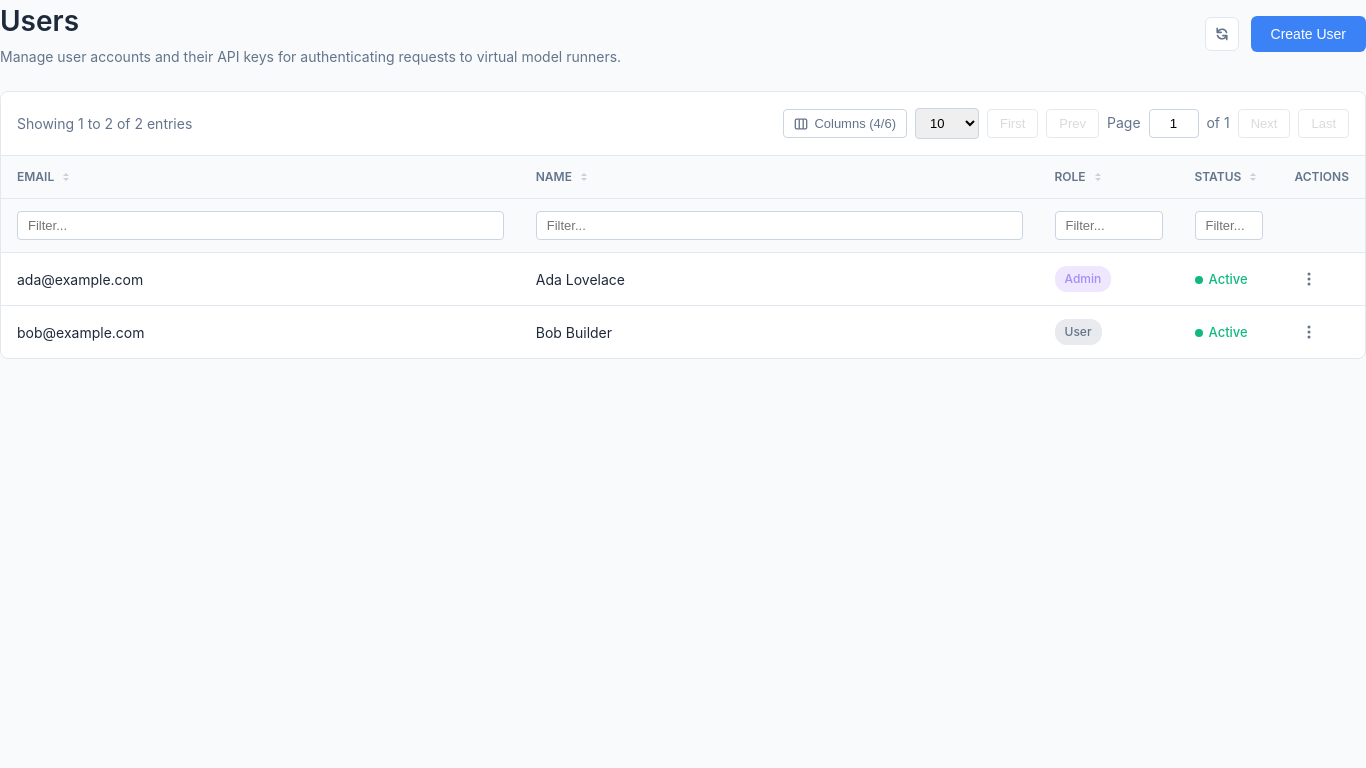
Scenario: Users view › creates a user with the entered values
This screenshot has width=1366, height=768.
Expected: the text "ada@example.com" is shown, [1,252,520,306]
Click the button "Create User" at (1308, 34), box [1250,16,1365,52]
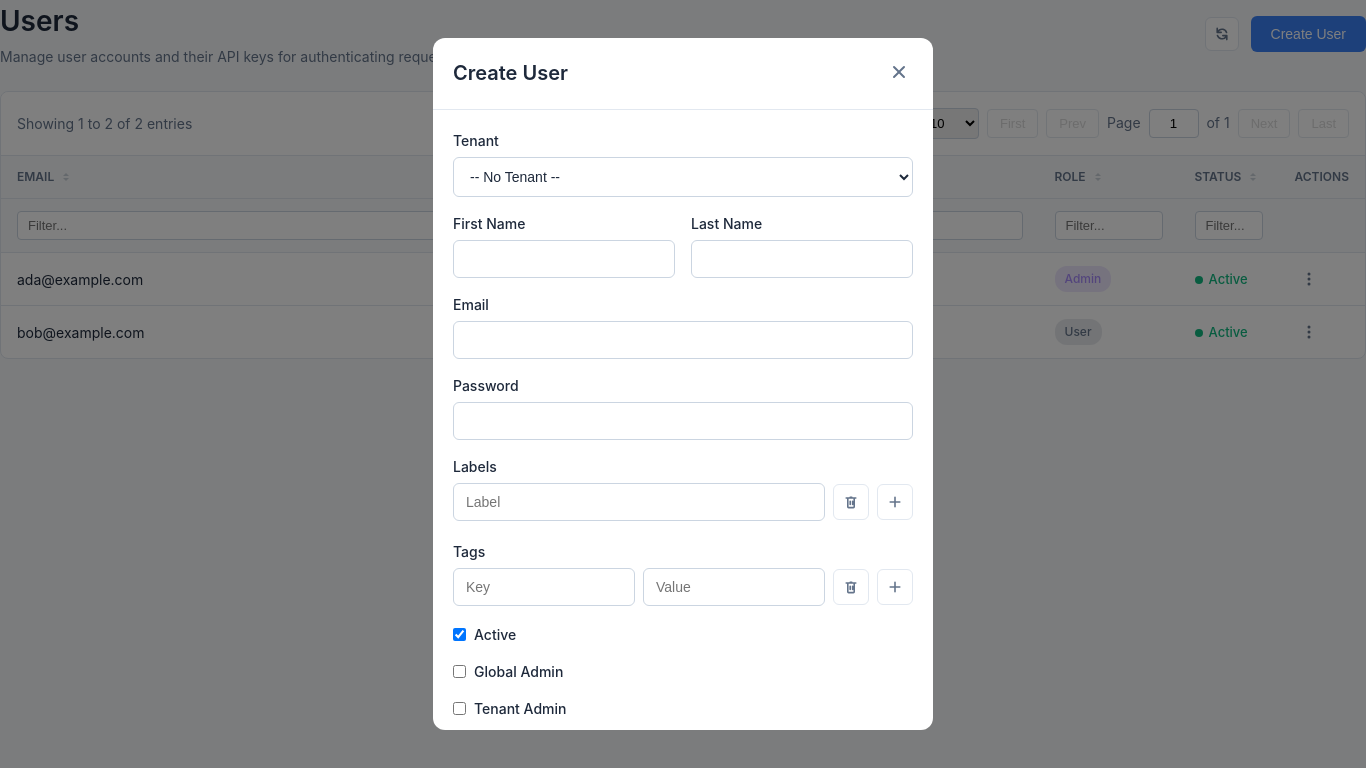
Expected: the form is shown, [453,130,913,730]
Select "Alpha Corp (ten_alpha)" in the dropdown labelled "Tenant" at (683, 177), box [453,157,913,197]
Type "Grace" into the field labelled "First Name" at (564, 259), box [453,240,675,278]
Type "Hopper" into the field labelled "Last Name" at (802, 259), box [691,240,913,278]
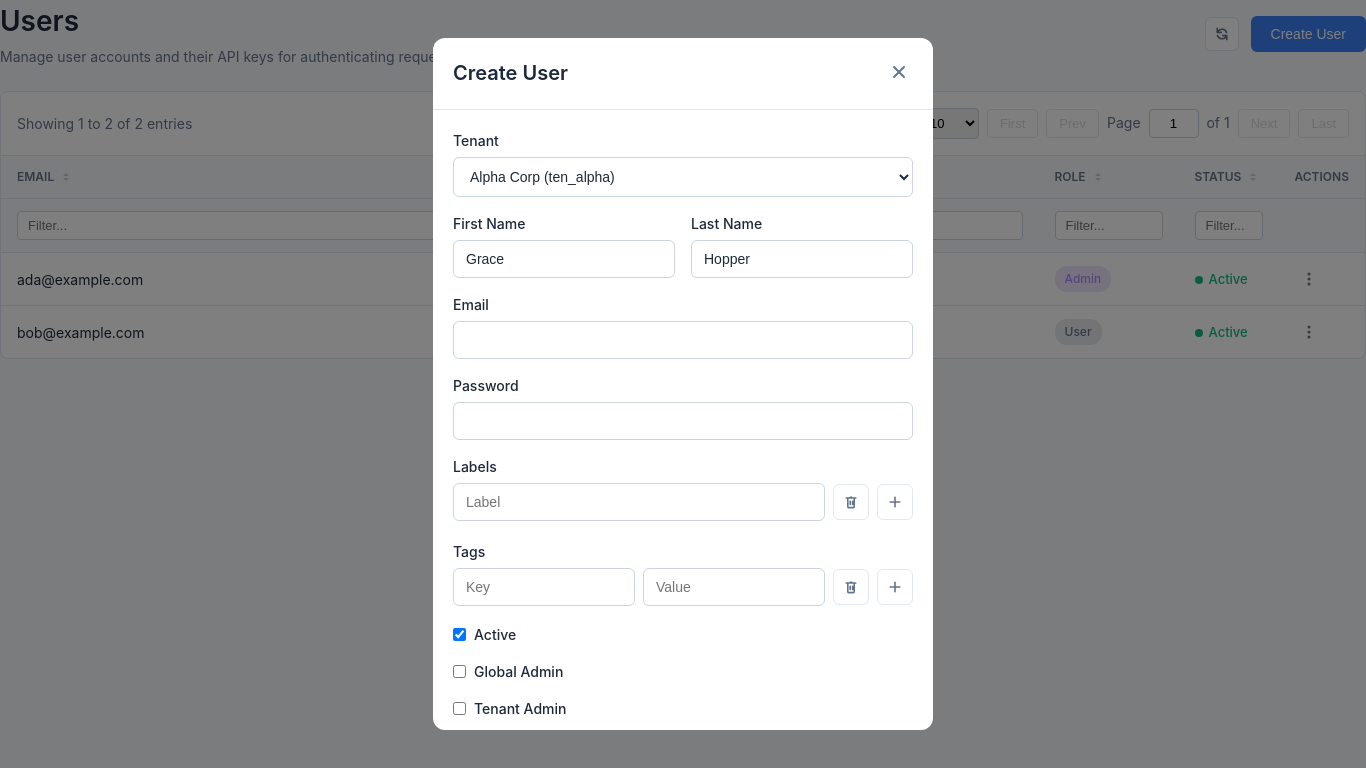
Type "grace@example.com" into the field labelled "Email" at (683, 340), box [453,321,913,359]
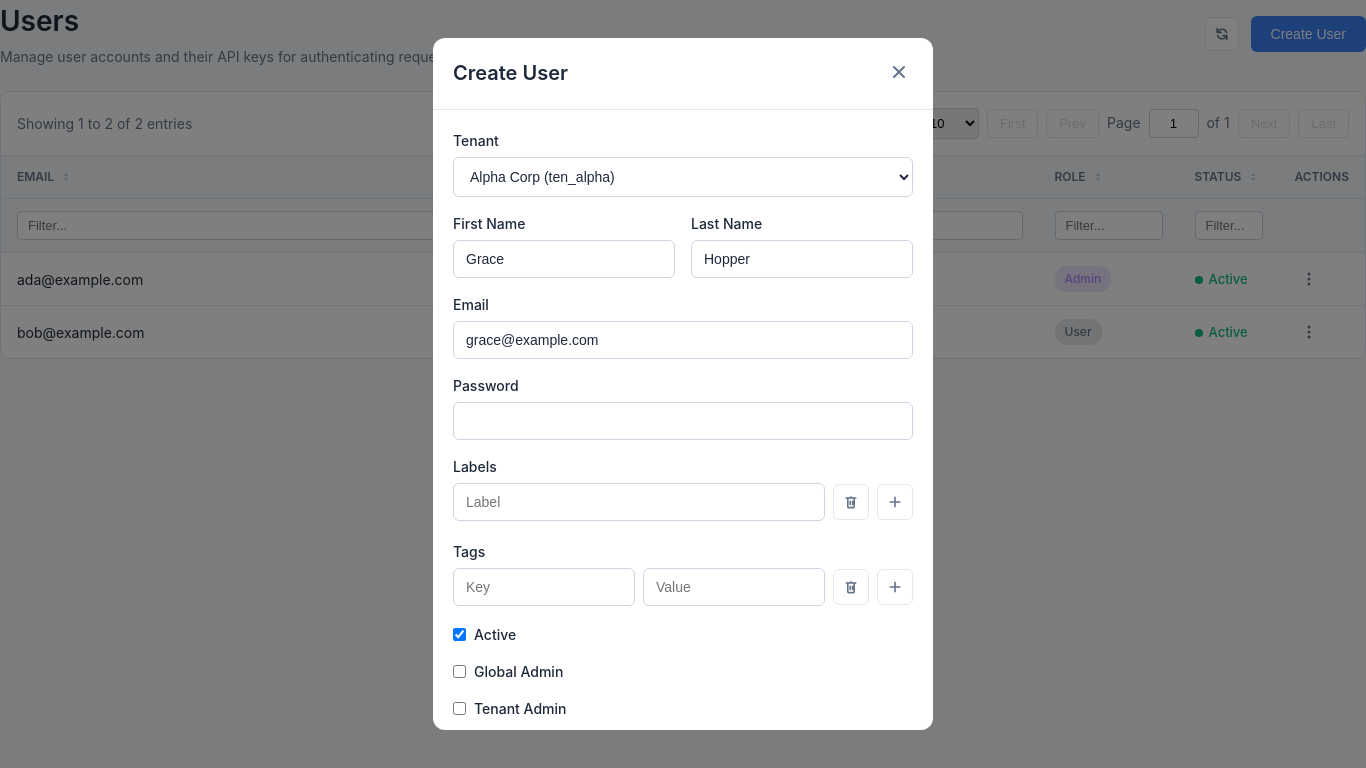
Type "s3cret!" into the password field labelled "Password" at (683, 421), box [453,402,913,440]
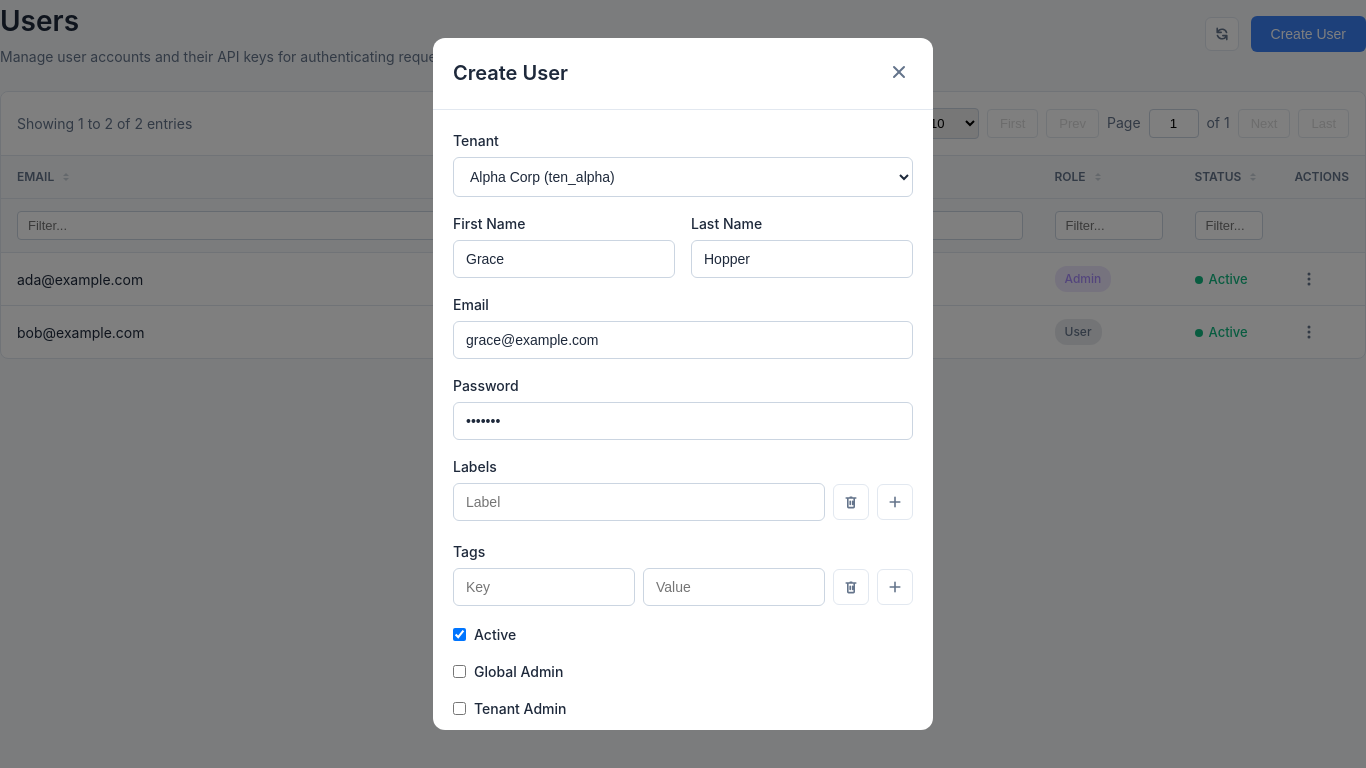
Click the checkbox labelled "Tenant Admin" at (460, 709), box [453,702,466,715]
(page scrolled)
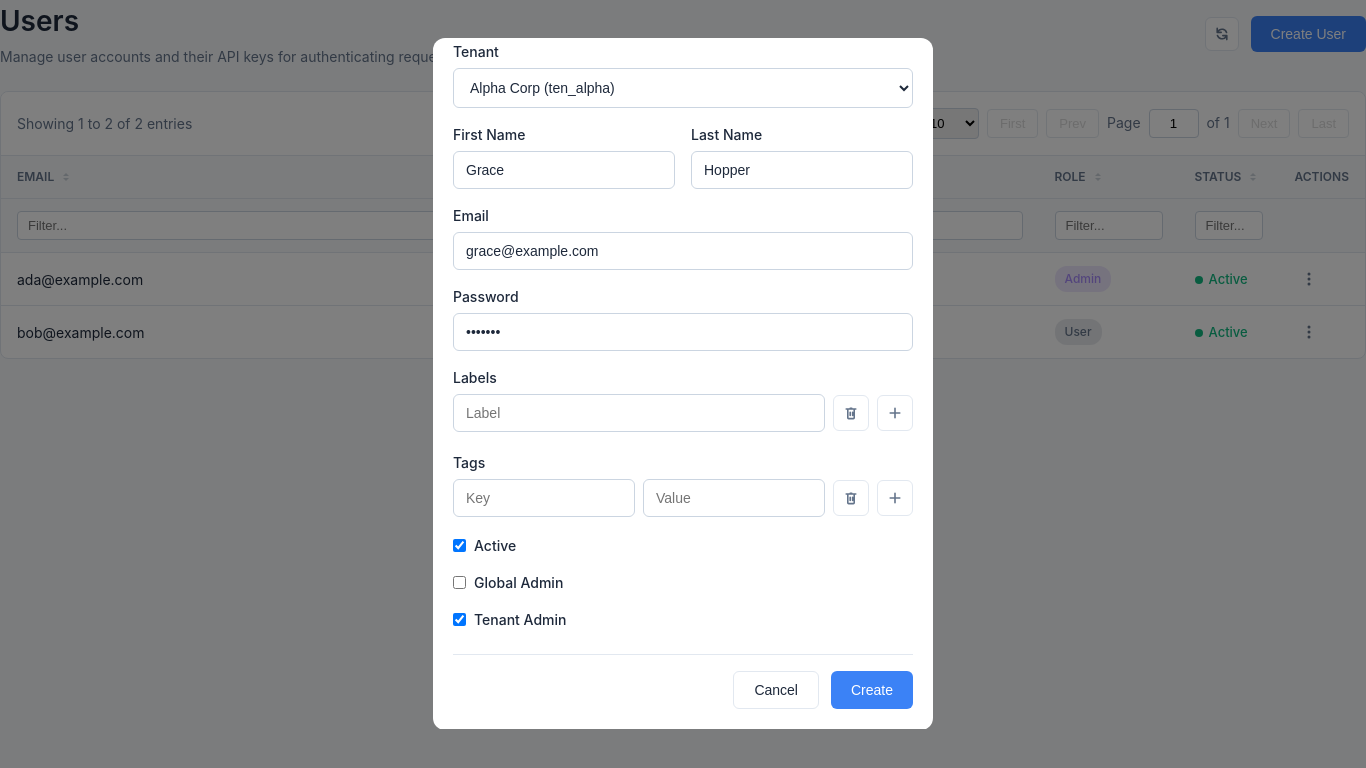
Click the button "Create" at (872, 690), box [831,671,913,709]
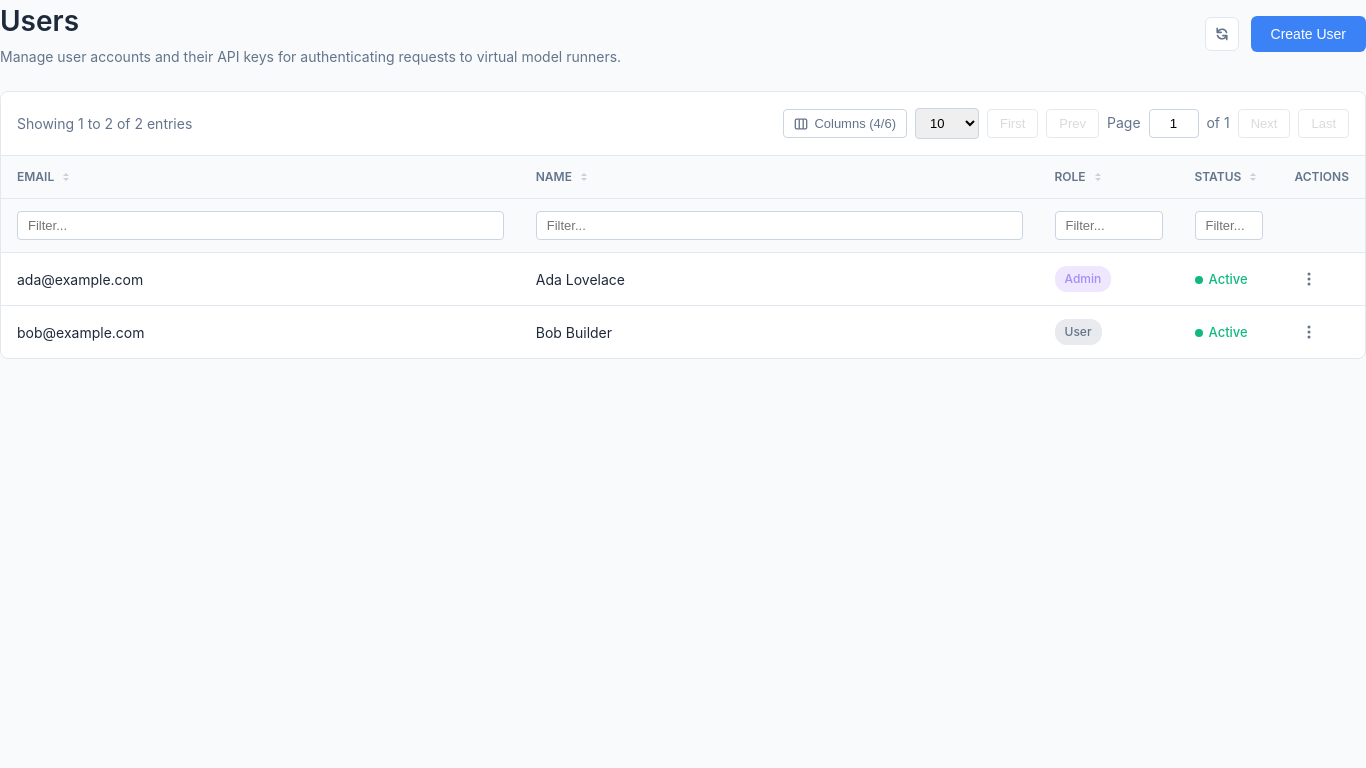
Expected: the form is gone
